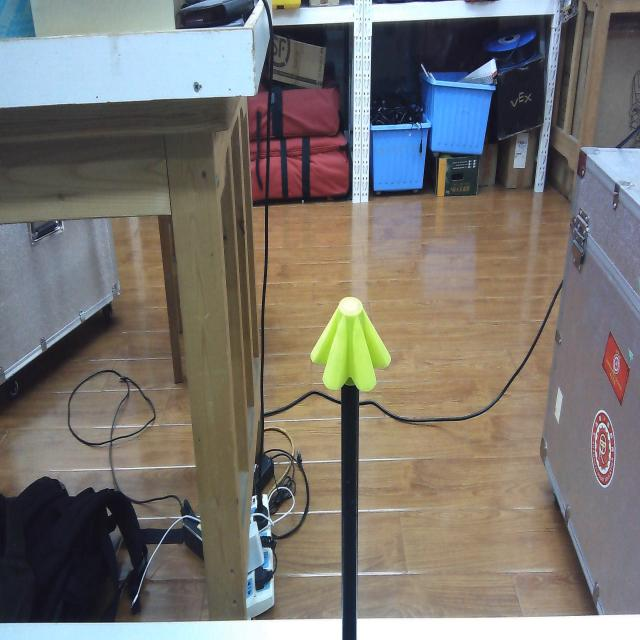Yellow-Stake-Head: (309, 296, 392, 392)
